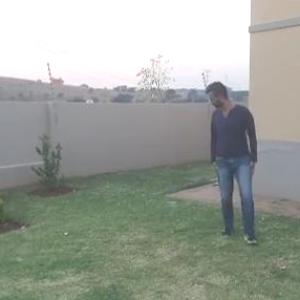follow: (209, 74, 265, 244)
